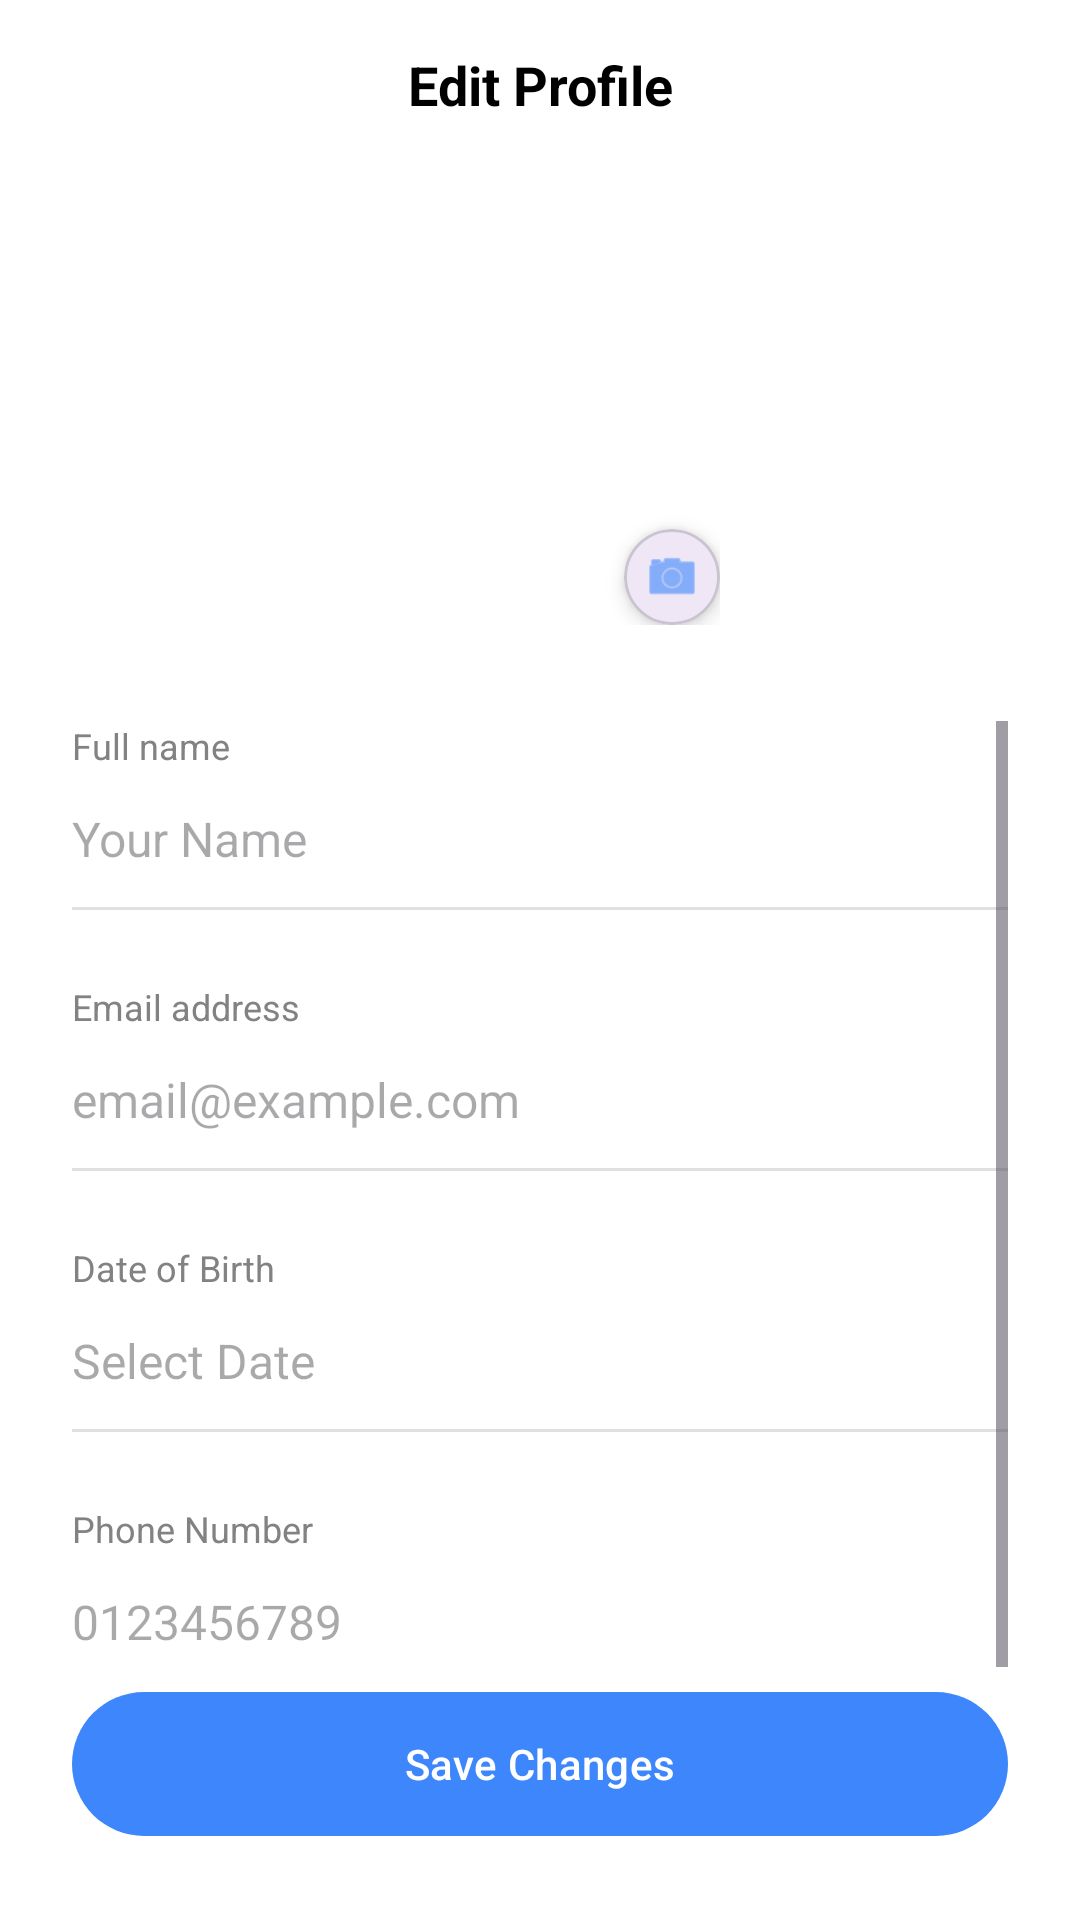

Named icons in this screenshot (1080px x 1920px) and their centers, [x,y]:
camera: [672,577]
